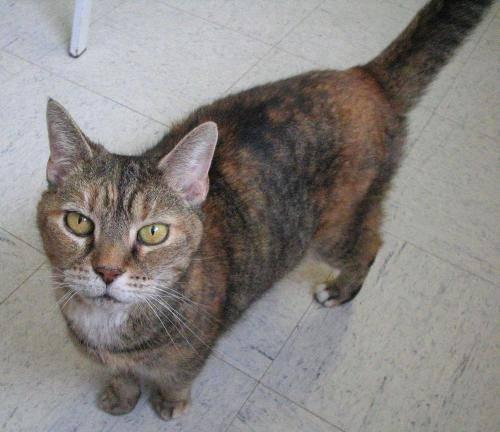cat: (37, 0, 493, 419)
